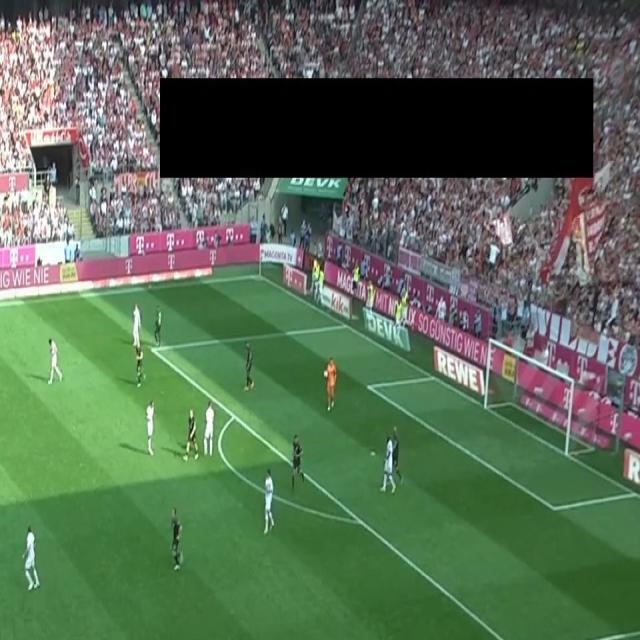ball: (323, 368, 328, 378)
